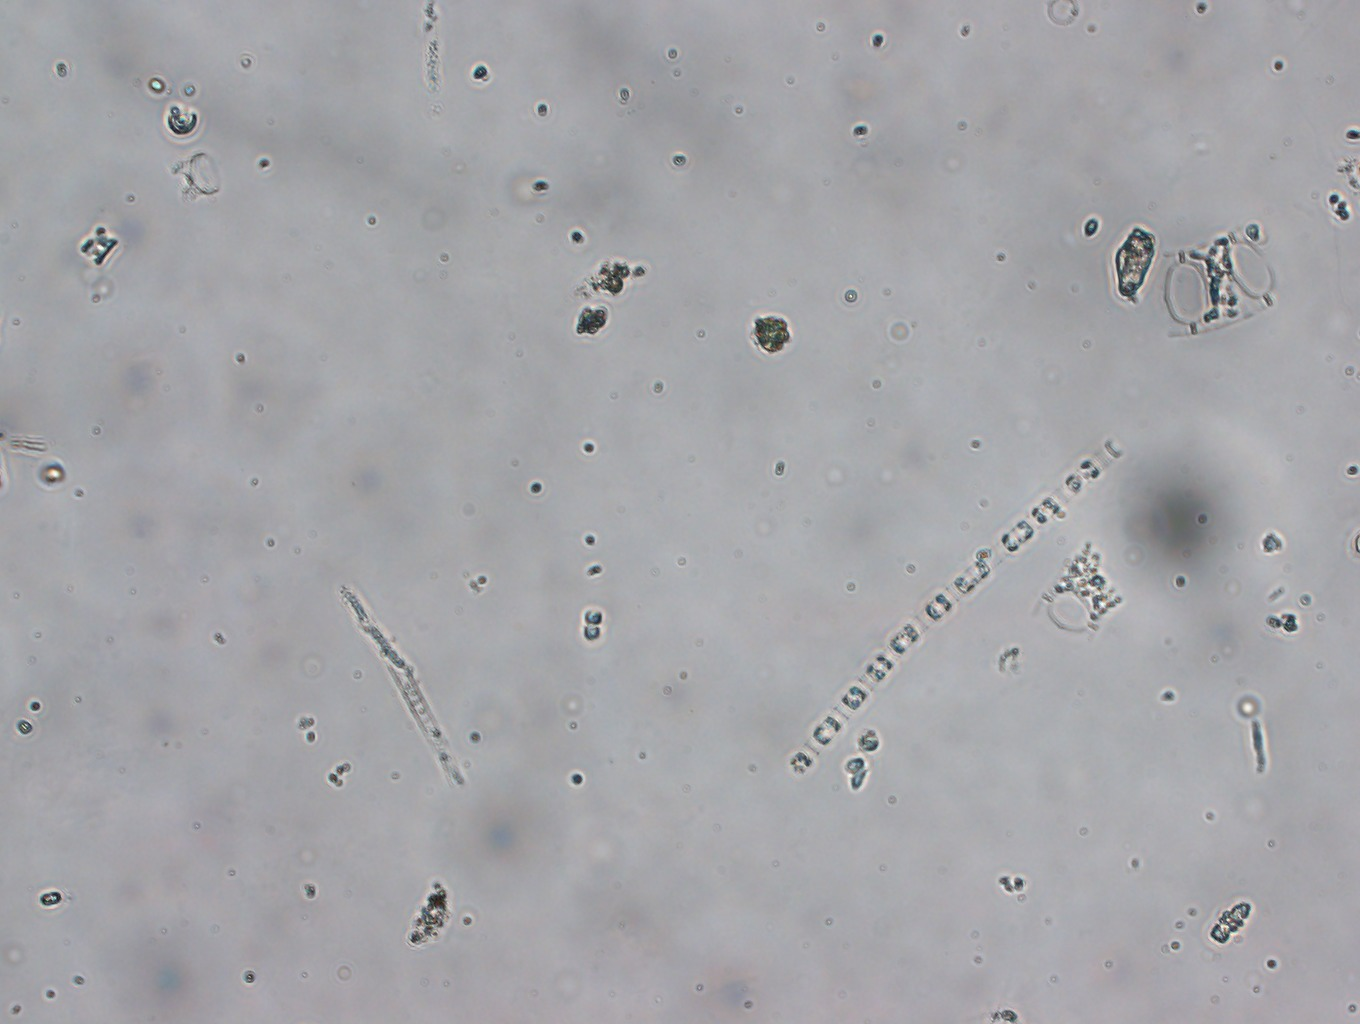skeletonema: (779, 408, 1125, 784)
